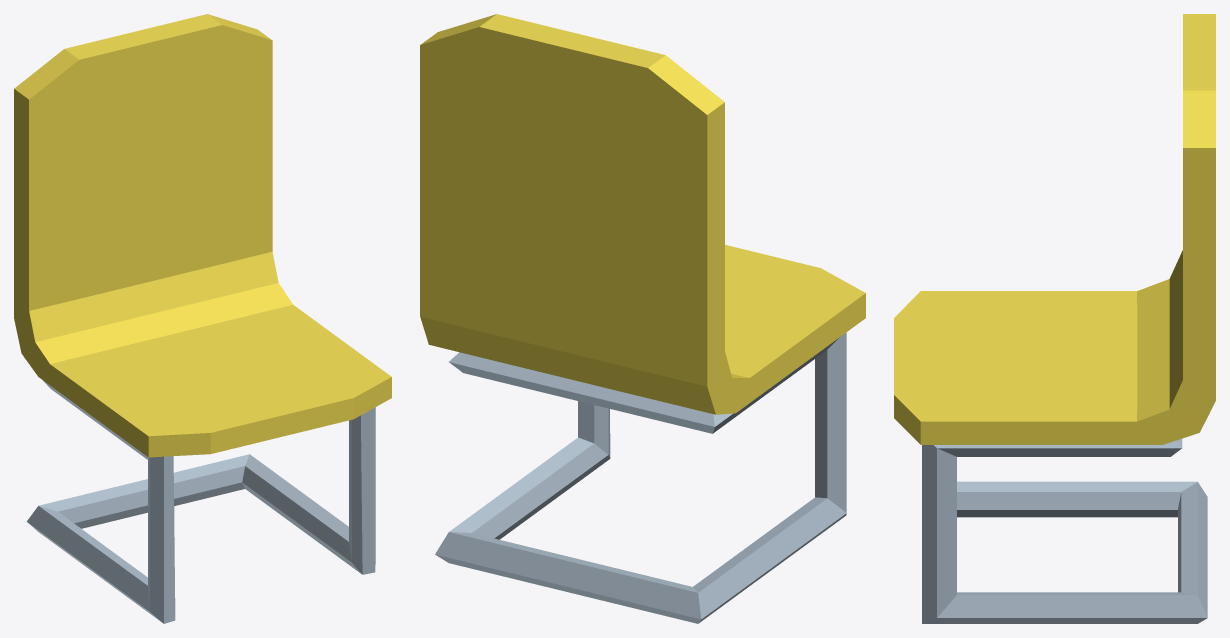
Rendered from chair.fbx.
3 renders of one model, left to right at view 1: azimuth 30°, elevation 25°; view 2: azimuth 150°, elevation 25°; view 3: azimuth 270°, elevation 25°, orthographic. The views are drawn at different scales.
Visible parts, largest first — view 1: chair; view 2: chair; view 3: chair.
Part boxes in pixels (x1,y1,x2,y2): chair: (14, 14, 391, 623); chair: (420, 14, 865, 623); chair: (894, 14, 1215, 623).
Size of the model in its own units: 0.8726 by 1.61 by 0.91.
Materials: 1 (1 with a texture image).
